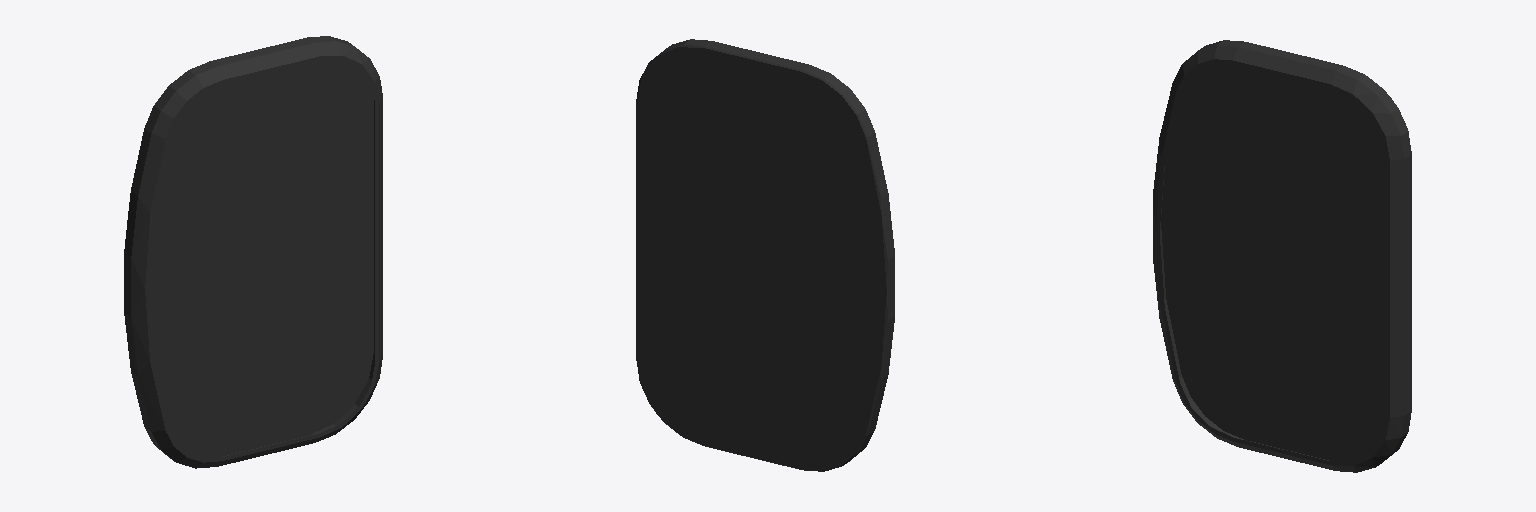
File: Shoe_Flex_1_mesh_1.obj
The picture shows the model from 3 angles: view 1: azimuth 30°, elevation 25°; view 2: azimuth 150°, elevation 25°; view 3: azimuth 330°, elevation 25°; orthographic projection.
Size of the model in its own units: 0.0763 by 0.1159 by 0.007.